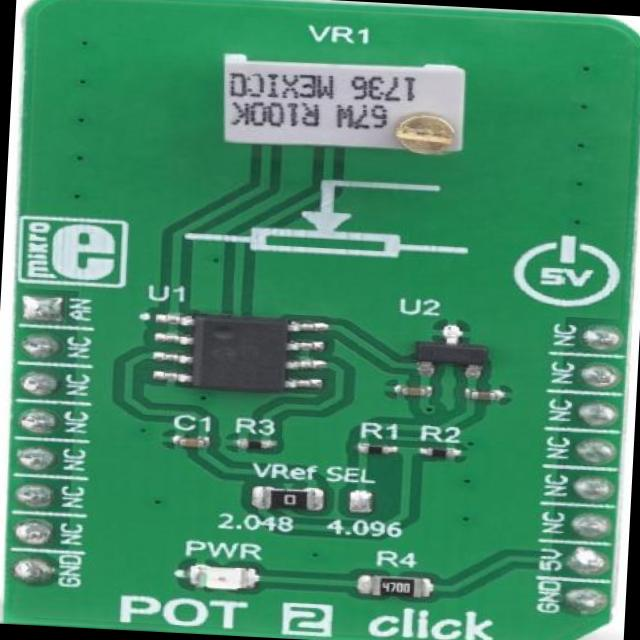IC: (158, 309, 314, 395)
LED: (196, 563, 256, 593)
capacitor: (398, 386, 435, 400), (468, 390, 499, 406), (178, 438, 208, 452)
resistor: (252, 488, 317, 510), (368, 574, 425, 598), (236, 438, 278, 454), (422, 448, 461, 461), (359, 444, 392, 458)
transistor: (412, 326, 492, 378)
